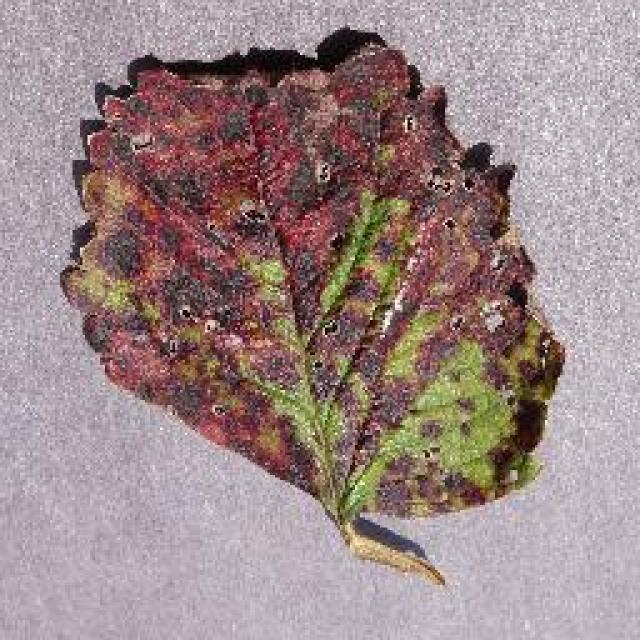Strawberry leaf scorch: (86, 60, 516, 492)
